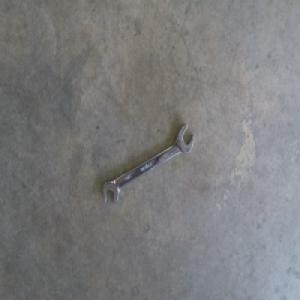Wrench: (103, 123, 195, 205)
